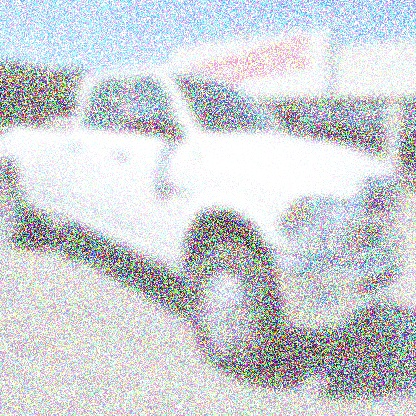Vehicle: (2, 67, 405, 376)
